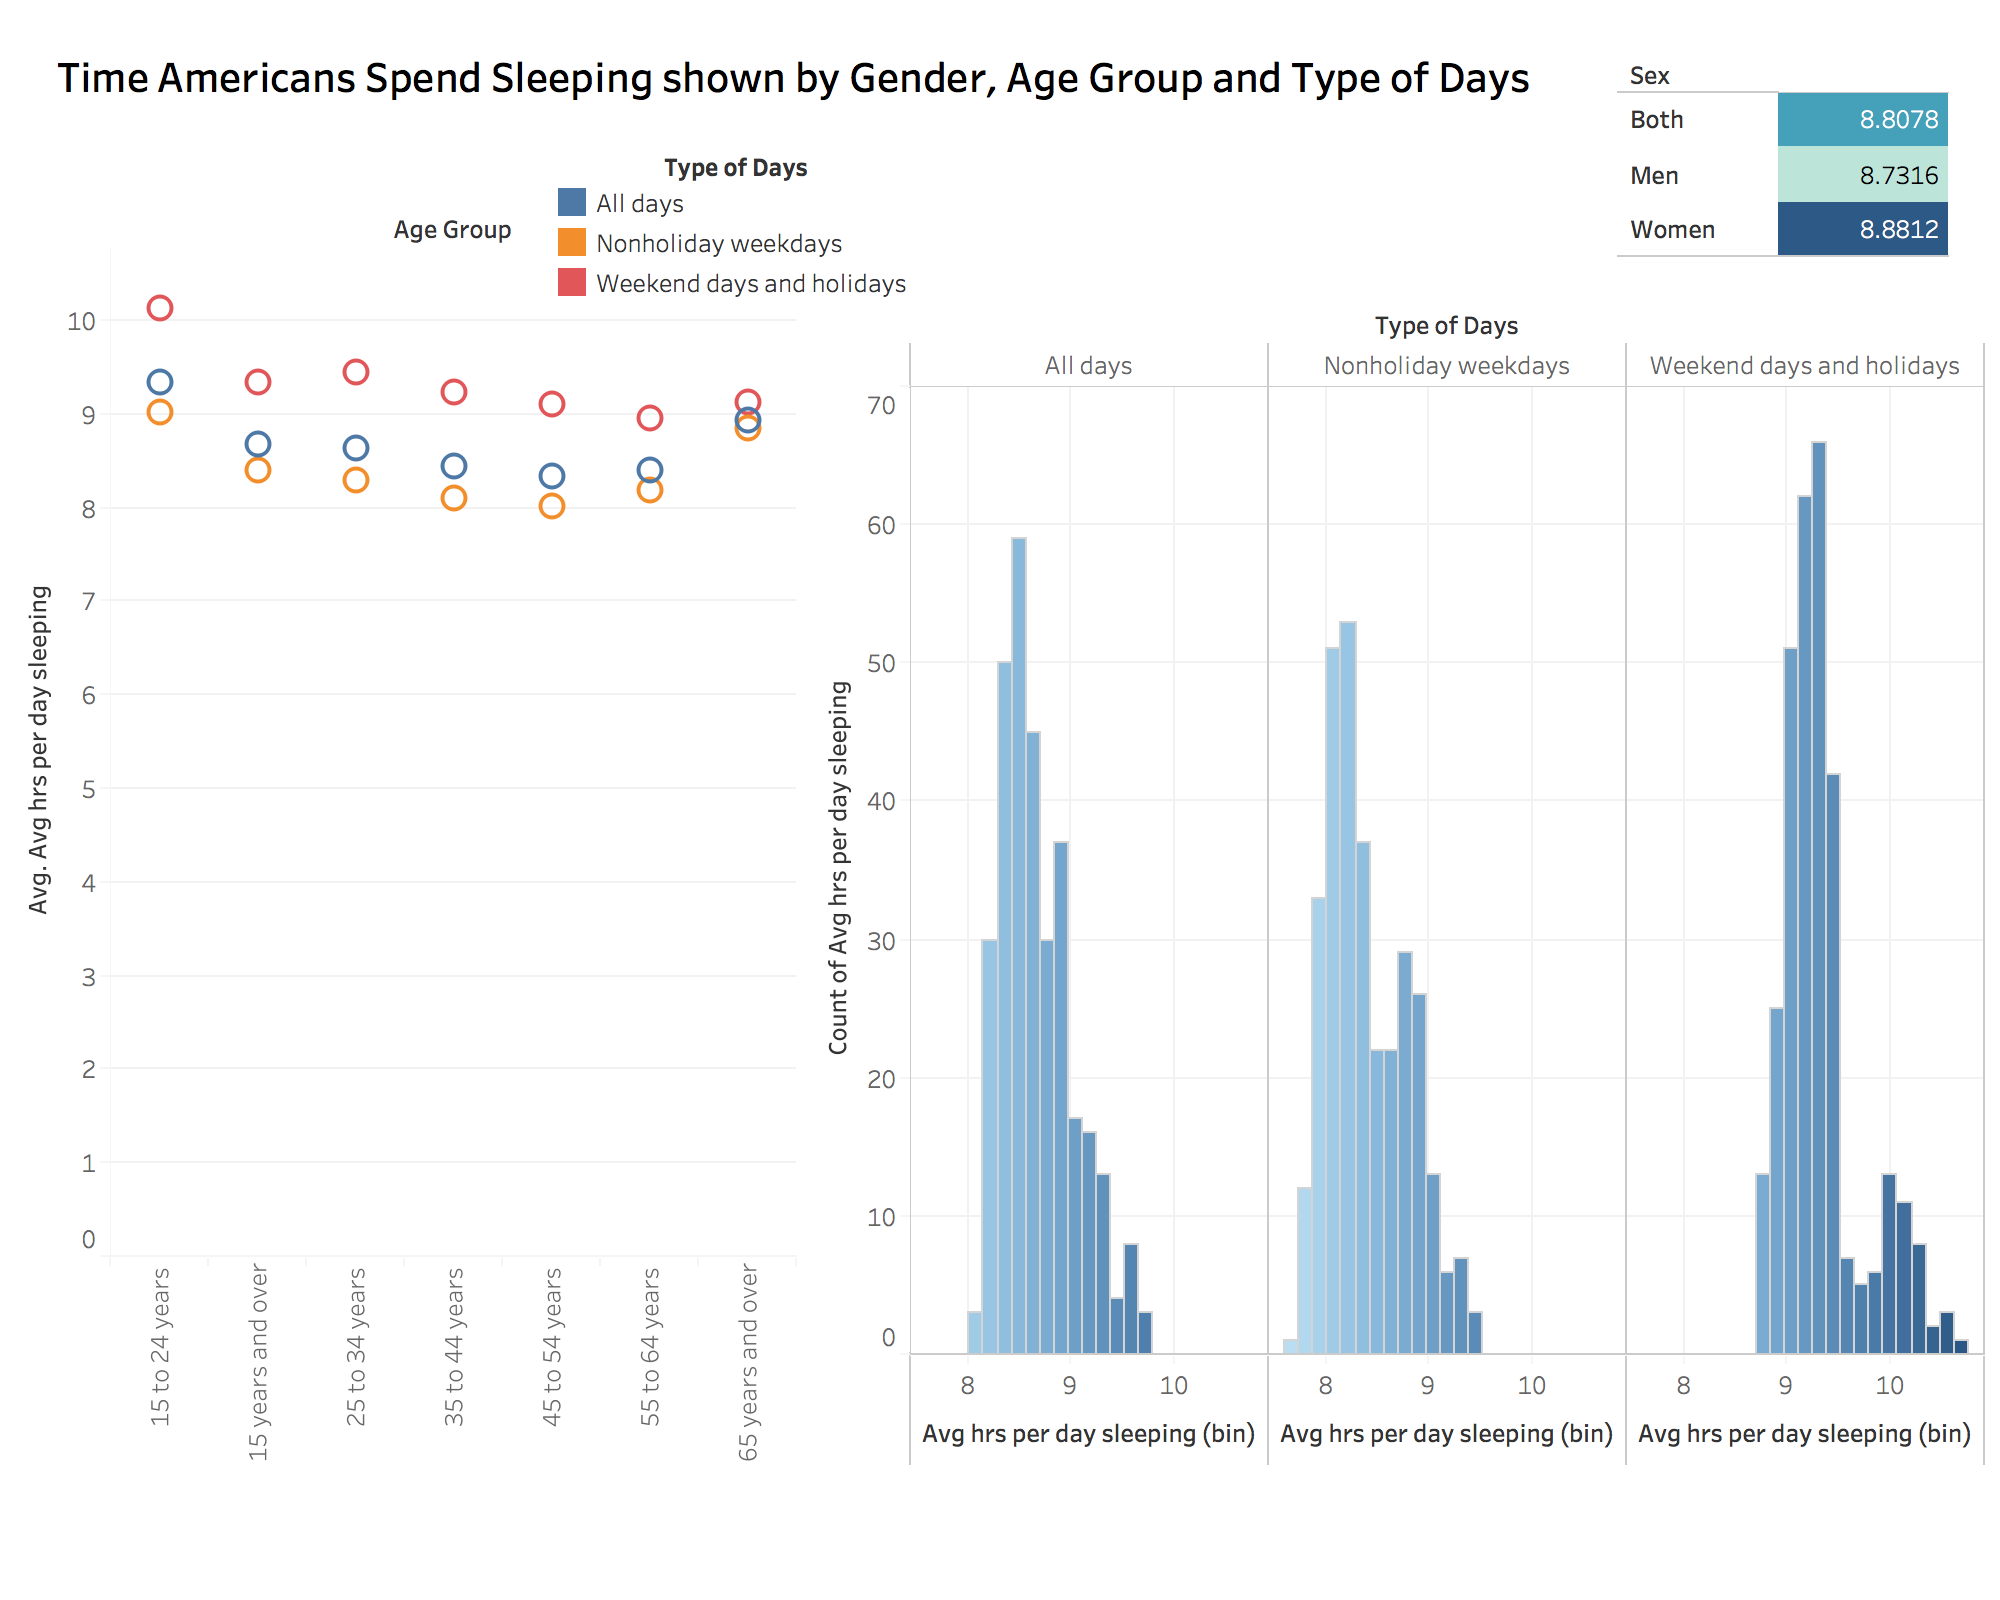

What the dashboard file says about the page in this screenshot:
{"tool":"tableau","page":{"name":"Dashboard 1","canvas":[1000,800],"ordinal":0},"visuals":[{"type":"worksheet","box":[3,9,788,59]},{"type":"worksheet","title":"Sheet 1","mark":"Square","rows":["Sex"],"box":[809,26,166,103]},{"type":"worksheet","title":"Sheet 2","mark":"Shape","rows":["Avg hrs per day sleeping"],"cols":["Age Group"],"param":"[federated.1d4xlcl0vq5pmz116jddj01egeni].[none:Type of Days:nk]","box":[276,73,182,78]},{"type":"worksheet","title":"Sheet 2","mark":"Shape","rows":["Avg hrs per day sleeping"],"cols":["Age Group"],"box":[3,104,395,628]},{"type":"worksheet","title":"Sheet 4","mark":"Automatic","rows":["Avg hrs per day sleeping"],"cols":["Type of Days","Avg hrs per day sleeping (bin)"],"box":[403,152,590,581]}]}

Visuals, with their boxes in screenshot pixels (x1, y1, x2, y2), scaled from the page's 1000x800 canvas onto the 2000x1600 screenshot:
worksheet: [6,18,1582,136]
"Sheet 1" worksheet (Square marks): [1618,52,1950,258]
"Sheet 2" worksheet (Shape marks): [552,146,916,302]
"Sheet 2" worksheet (Shape marks): [6,208,796,1464]
"Sheet 4" worksheet: [806,304,1986,1466]
